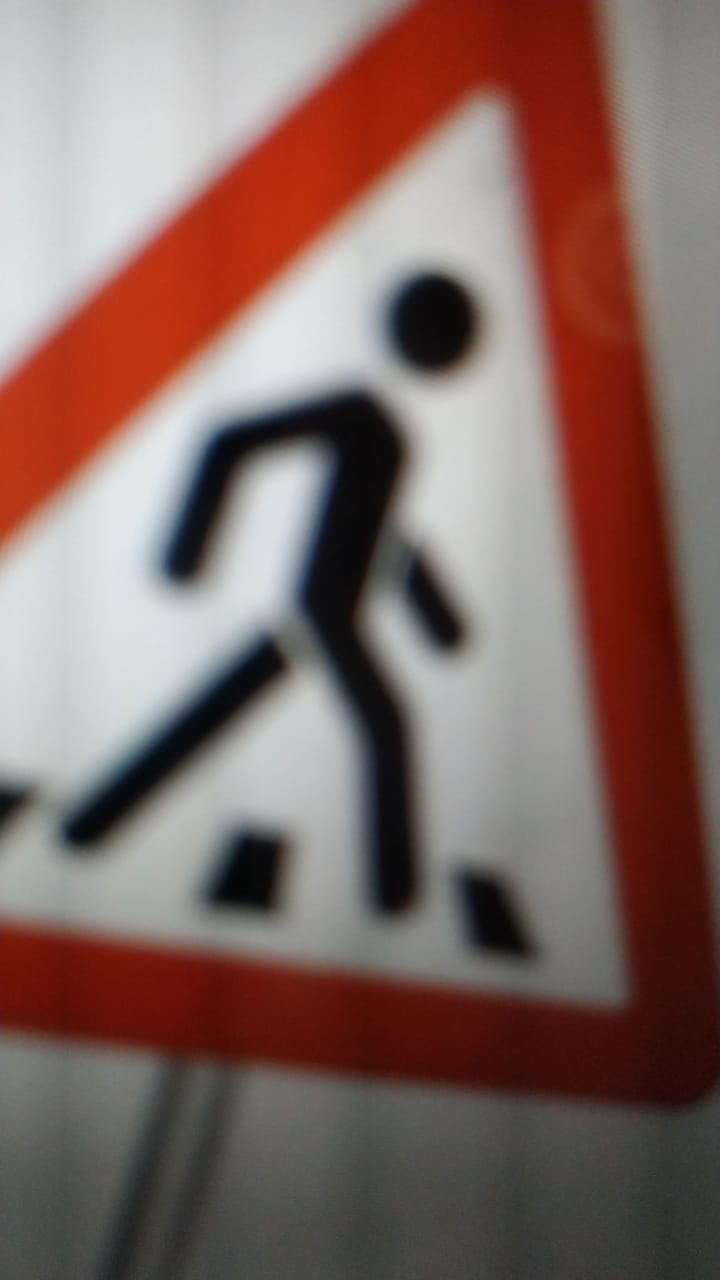PEDESTRIAN CROSSING: (3, 1, 713, 1265)
